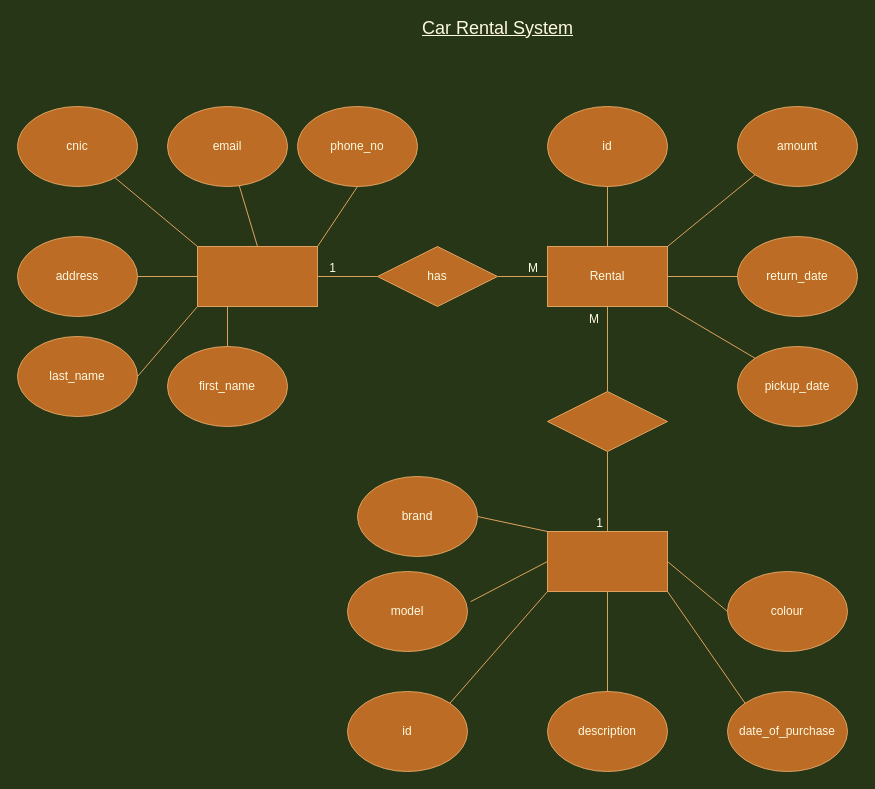
Some shapes in this 875 by 789 pixel diagram are drawn without their labels. Here are the shapes that lost their labels. From the top down, the centre of each, then its label:
the point at 257,276: Customer
the point at 607,421: on
the point at 607,561: Car
